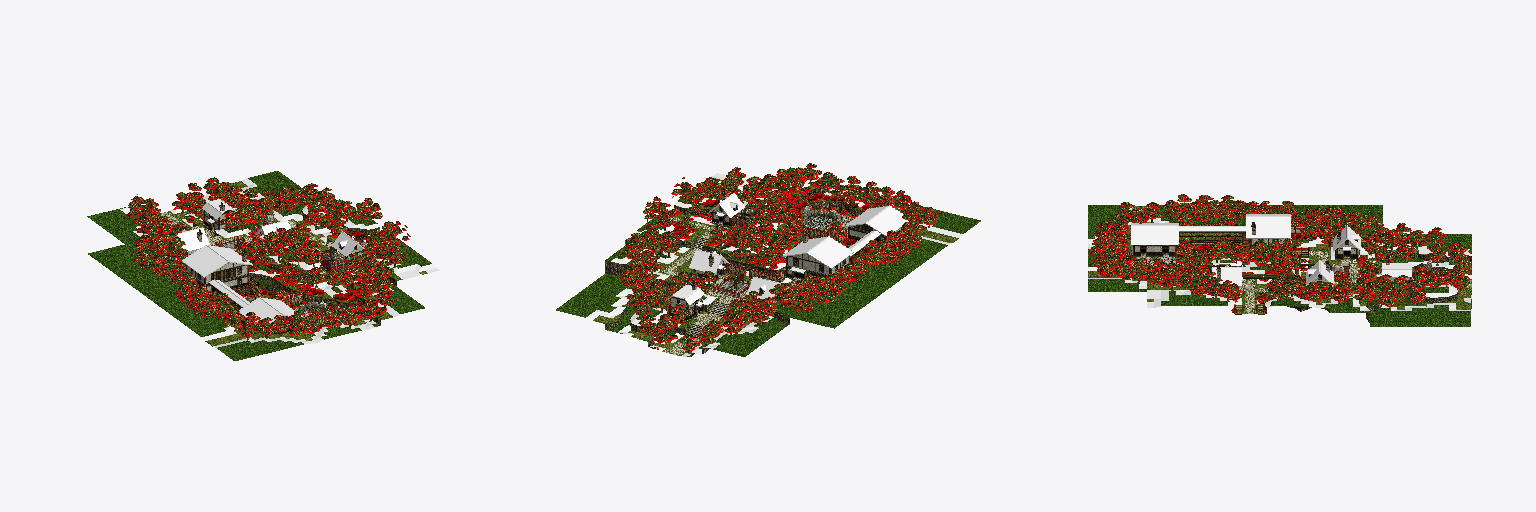
3 renders of one model, left to right at view 1: azimuth 30°, elevation 25°; view 2: azimuth 150°, elevation 25°; view 3: azimuth 270°, elevation 25°, orthographic.
Visible parts, largest first — view 1: Object.1; view 2: Object.1; view 3: Object.1.
Boxes of the visible parts, x1,y1,x2,y2 form: Object.1: [87, 171, 439, 360]; Object.1: [556, 163, 980, 356]; Object.1: [1088, 194, 1471, 326].
Size of the model in its own units: 73.67 by 16.68 by 104.
Materials: 25 (23 with a texture image).